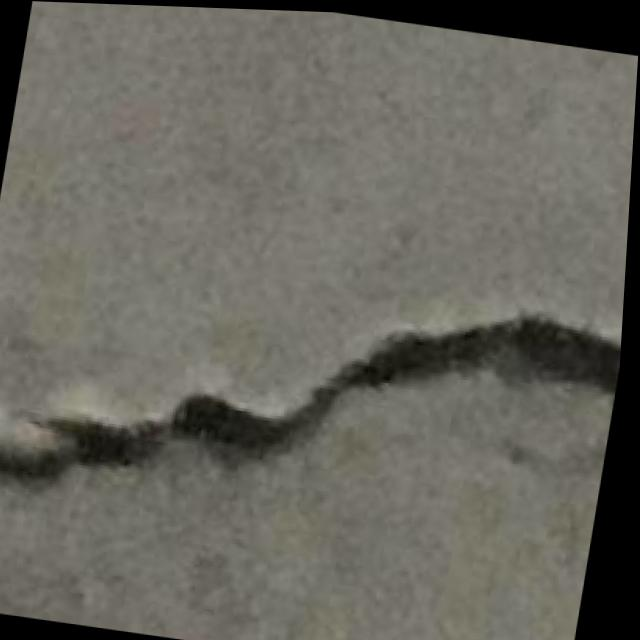Crack: (0, 229, 629, 567)
